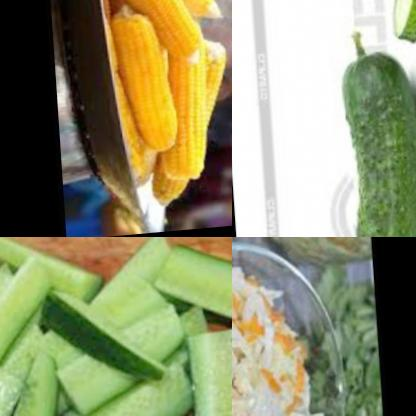cabbage: (232, 260, 328, 416), (243, 237, 370, 288)
carrot: (252, 365, 282, 404), (232, 315, 268, 347), (289, 363, 311, 408), (273, 332, 299, 360)
corn: (135, 40, 232, 211), (113, 8, 180, 158), (97, 0, 208, 81), (161, 28, 206, 190), (150, 0, 225, 32)
cucumber: (0, 237, 232, 416), (328, 30, 416, 237), (379, 0, 416, 69)
